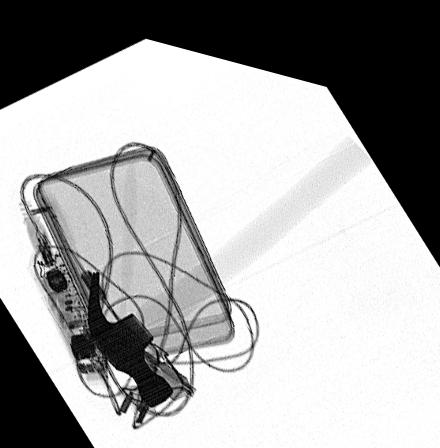Hammer: (86, 116, 371, 400)
